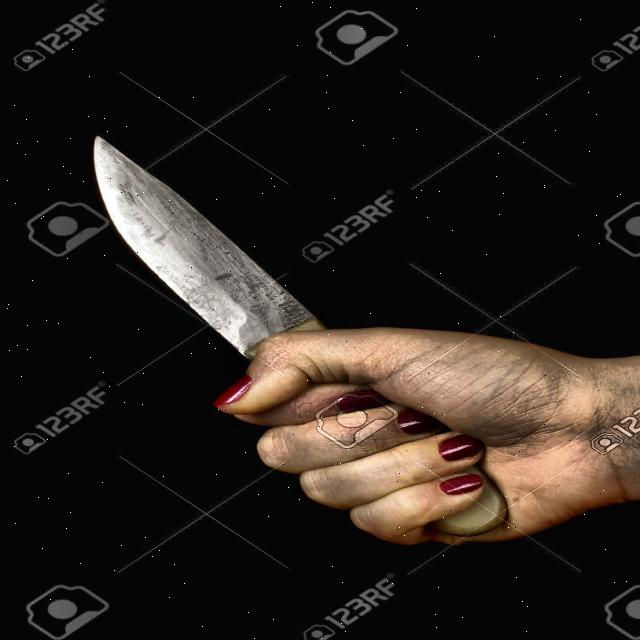knife: (91, 137, 509, 533)
